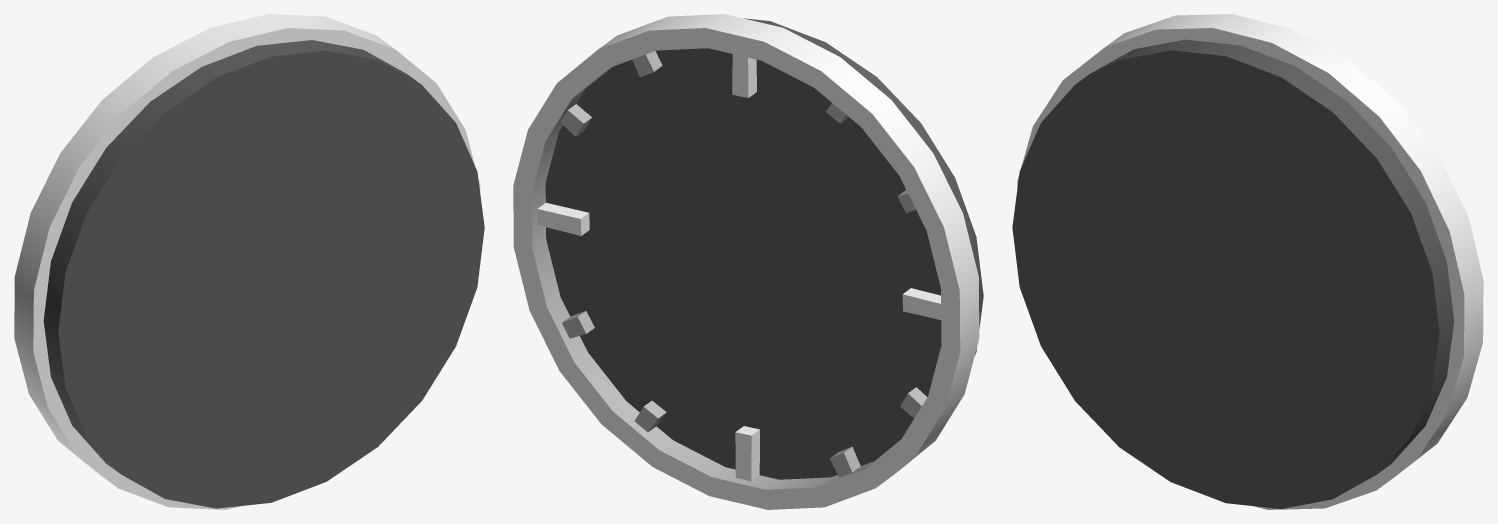
File: time_panel.glb
3 views of the same model, side by side, from view 1: azimuth 30°, elevation 25°; view 2: azimuth 150°, elevation 25°; view 3: azimuth 330°, elevation 25° (orthographic).
Parts seen in each view (by area): view 1: Cylinder.004; view 2: Cylinder.004; view 3: Cylinder.004.
Part boxes in pixels (x1,y1,x2,y2): Cylinder.004: (14, 14, 484, 509); Cylinder.004: (513, 14, 983, 509); Cylinder.004: (1012, 14, 1483, 509).
Bounding box in the file's own units: 0.5692 × 0.5692 × 0.0744.
1 material, 1 textured.
